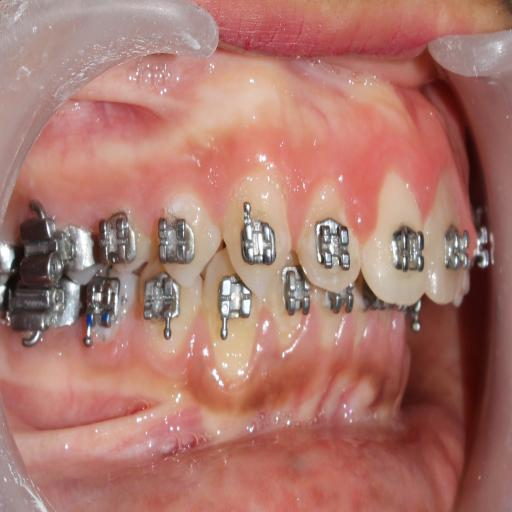correct_brace: (156, 194, 222, 282), (238, 200, 280, 274), (312, 214, 352, 276), (392, 224, 426, 278)
incorrect_brace: (297, 181, 361, 289), (156, 214, 202, 270)
